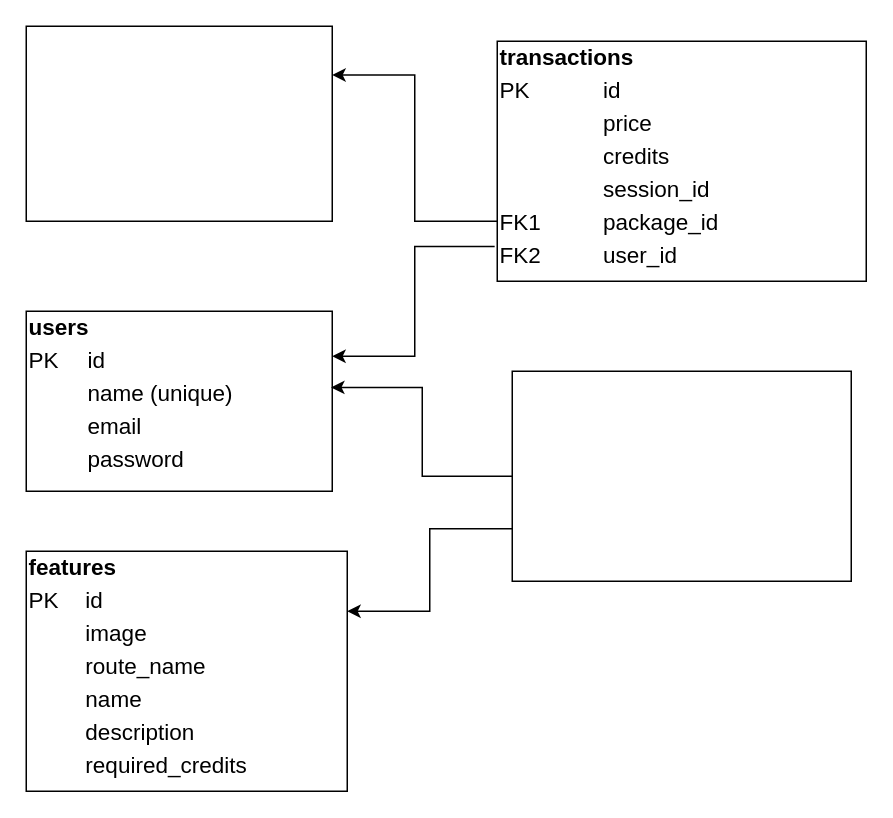
The diagram is 893 pixels wide and 818 high, and some of its shapes have lost their labels. Each missing label, with the box of its shape:
packages PK id name price credits: (25, 25, 332, 221)
usedfeatures PK id credits FK1 user_id FK2 feature_id data: (511, 370, 851, 581)
